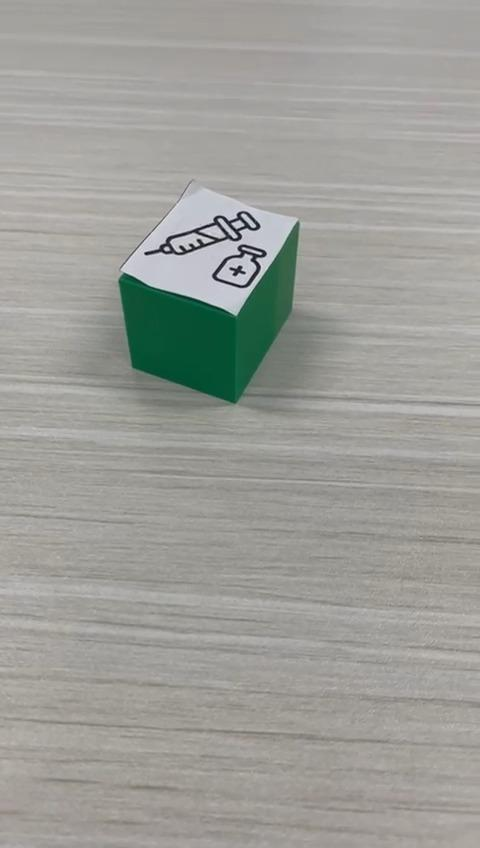antiseptic cream: (117, 177, 300, 404)
